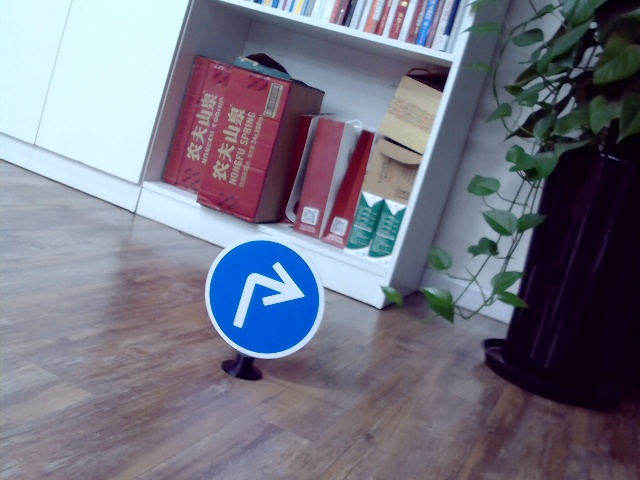turn_right: (232, 263, 307, 334)
